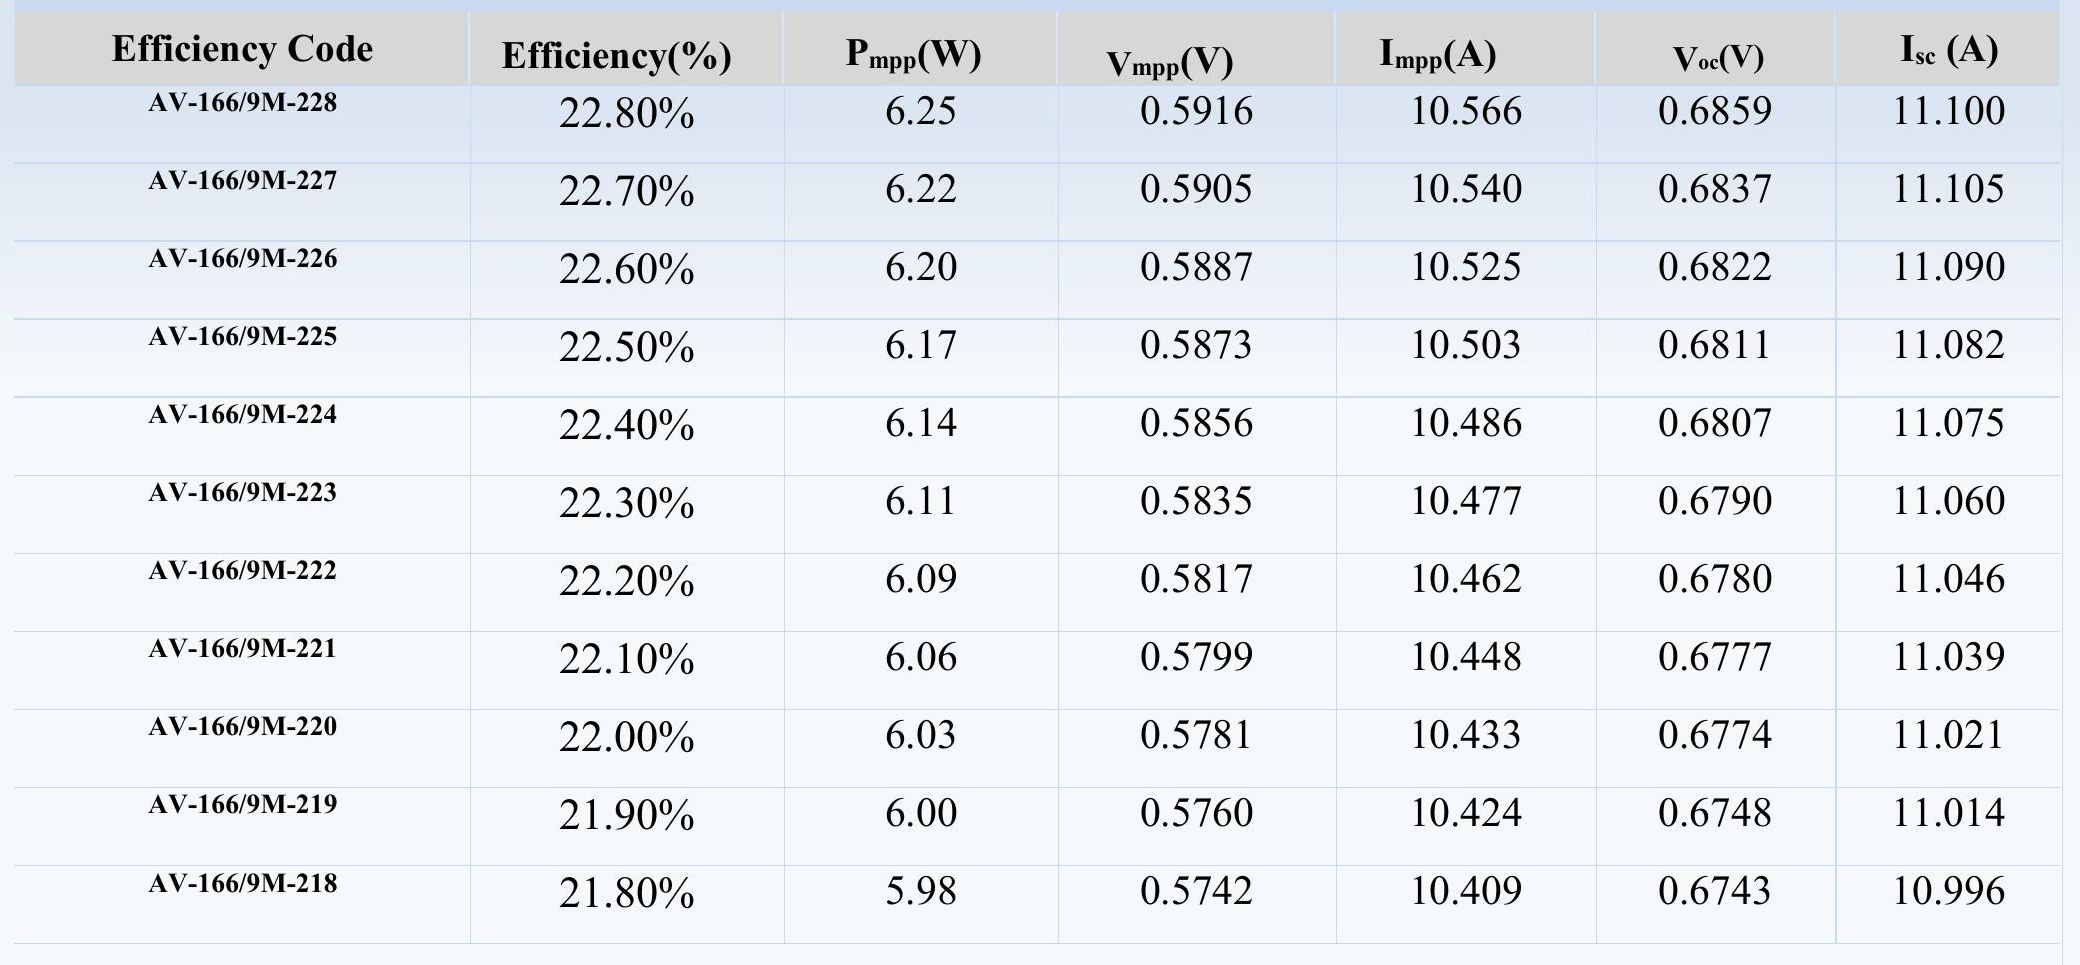table: (4, 5, 2080, 965)
table column: (41, 8, 448, 934), (476, 9, 765, 934), (1067, 11, 1321, 932), (795, 9, 1045, 934), (1344, 12, 1583, 940), (1602, 12, 1829, 932), (1843, 9, 2063, 934)
table column header: (19, 15, 2061, 82)
table row: (15, 15, 2067, 85), (15, 628, 2063, 698), (12, 859, 2071, 924), (16, 707, 2065, 773), (16, 86, 2068, 147), (16, 784, 2068, 846), (19, 239, 2068, 300), (16, 161, 2067, 219), (19, 398, 2061, 457), (15, 475, 2064, 532), (17, 320, 2063, 373), (15, 551, 2067, 600)
